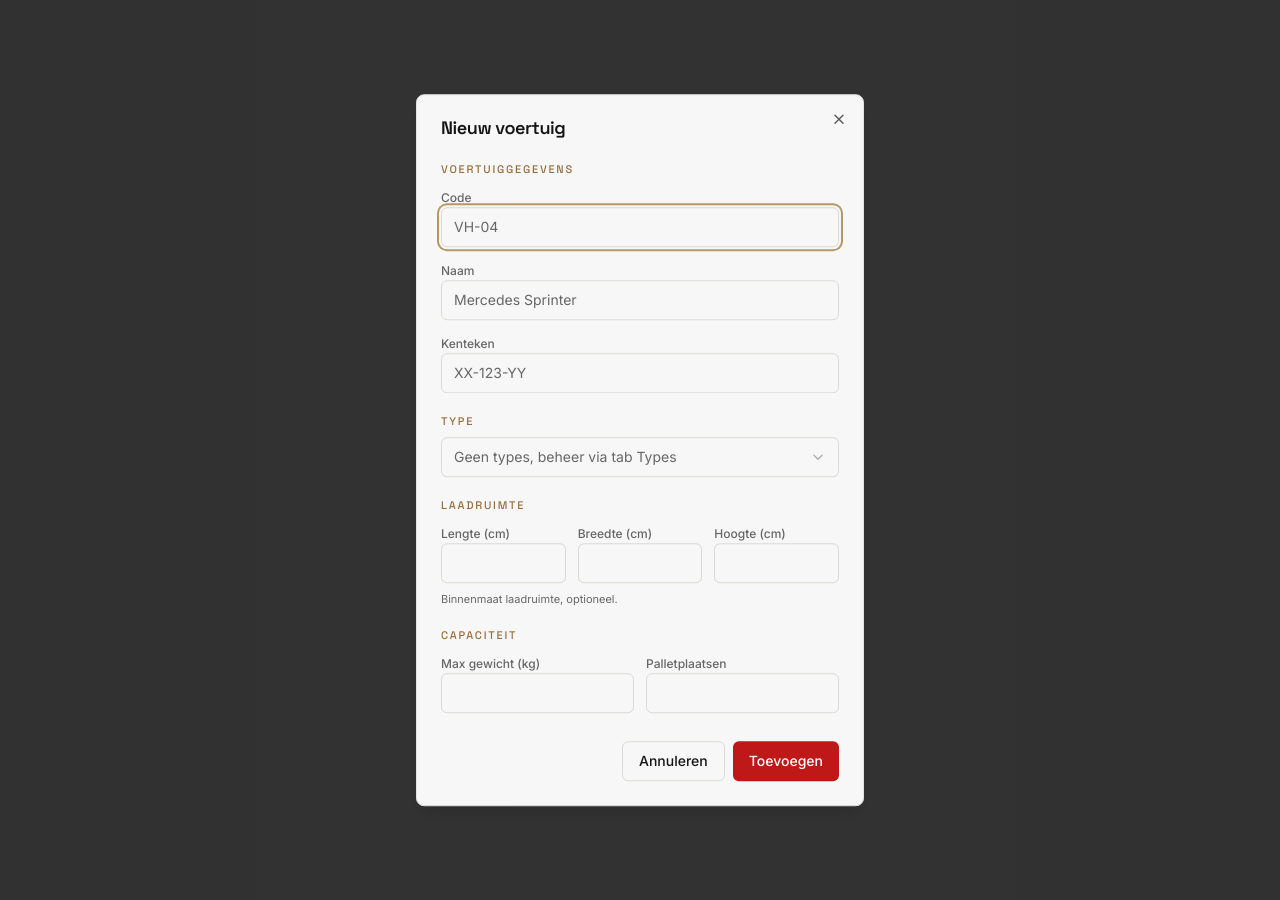
it: NewVehicleDialog › shows inline validation errors when submitting without required fields
Click the button "Toevoegen" at (786, 761), box 733,741 -> 839,781
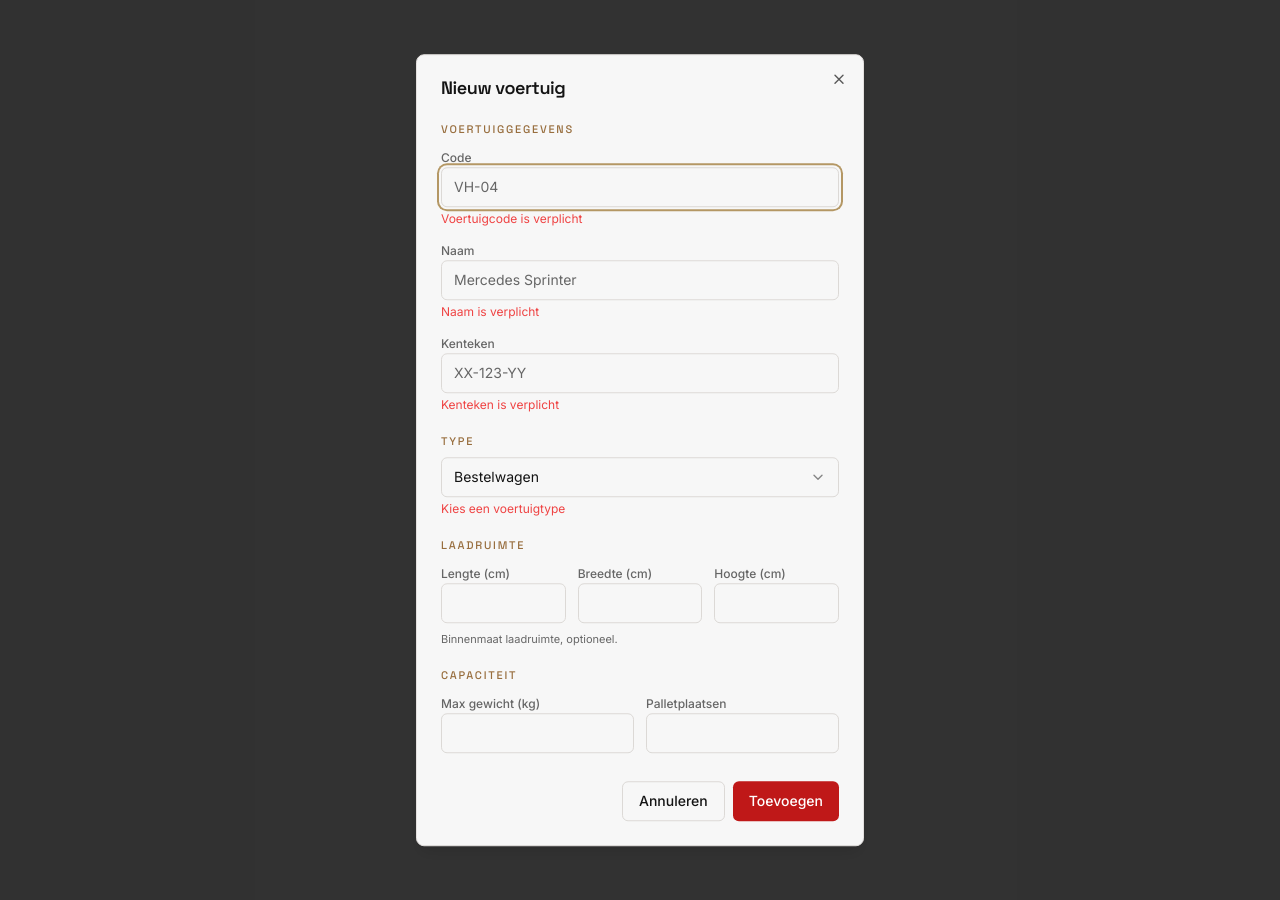
Check: the text "Voertuigcode is verplicht" is shown, box 441,211 -> 582,226
Check: the text "Naam is verplicht" is shown, box 441,304 -> 539,319
Check: the text "Kenteken is verplicht" is shown, box 441,397 -> 559,412
